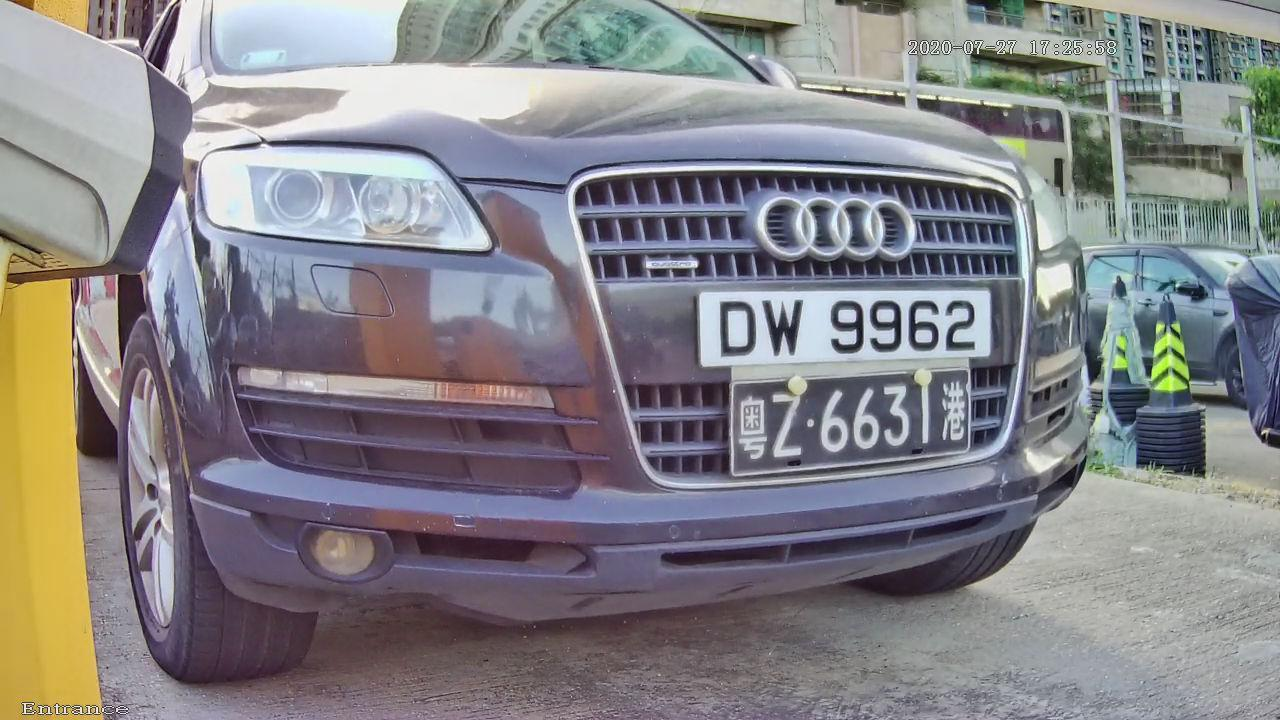privatecar: (103, 20, 1132, 647)
